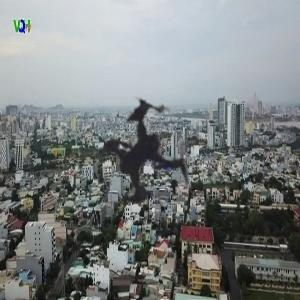drone: (5, 8, 297, 300)
